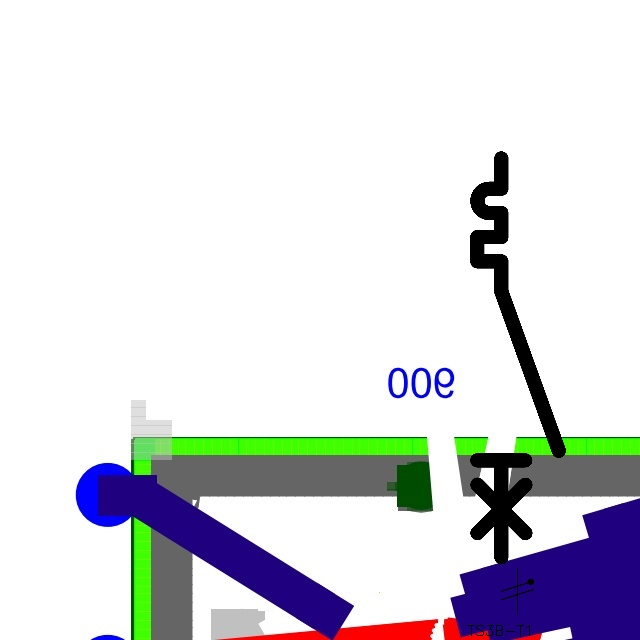interruptor_termomagnetico: (467, 148, 569, 567)
